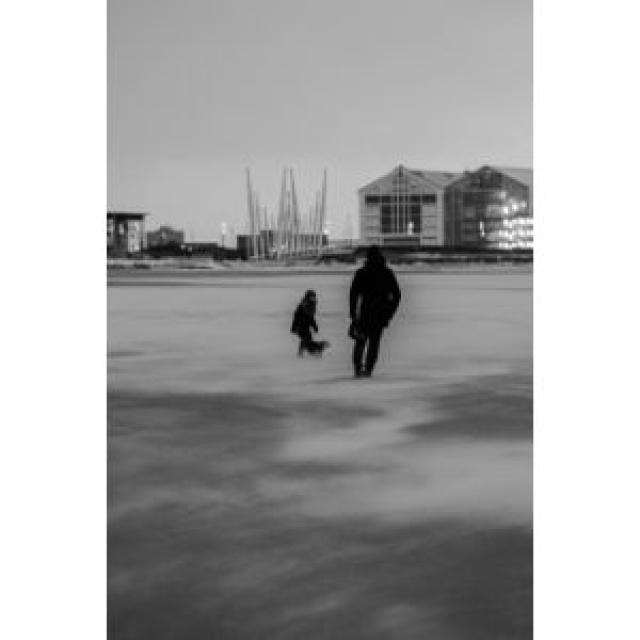nonfall: (346, 236, 417, 393), (288, 272, 326, 366)
